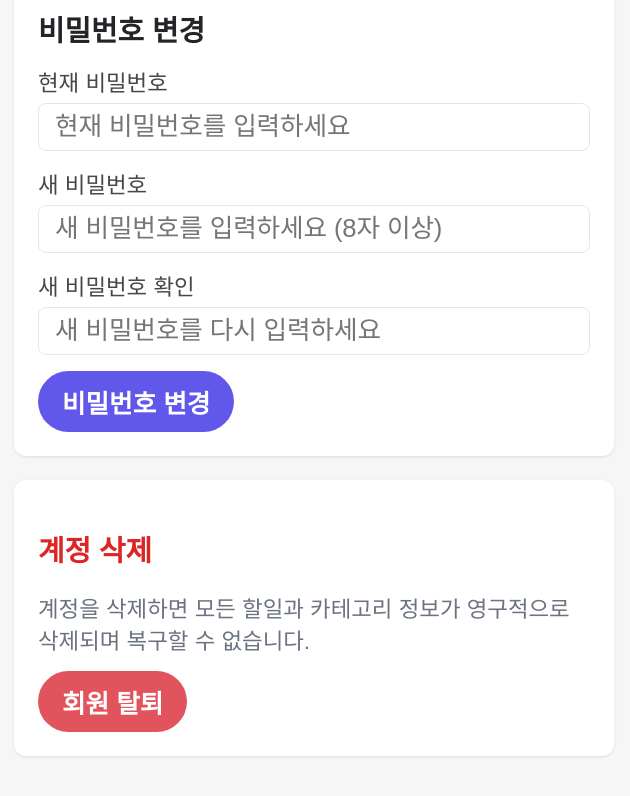
Scenario: ProfileEditForm › 비밀번호 변경 섹션 › 현재 비밀번호가 비어있으면 에러를 표시한다
(page scrolled)
Step 1. Click the button "비밀번호 변경" → point(136, 401), box [38,371,234,432]
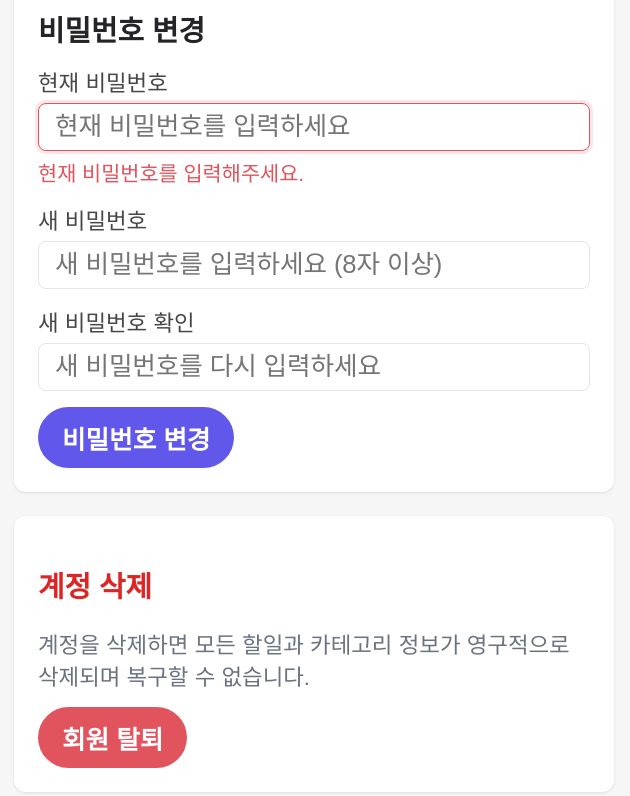
Check: the text "현재 비밀번호를 입력해주세요." is shown, box [38,162,304,185]
